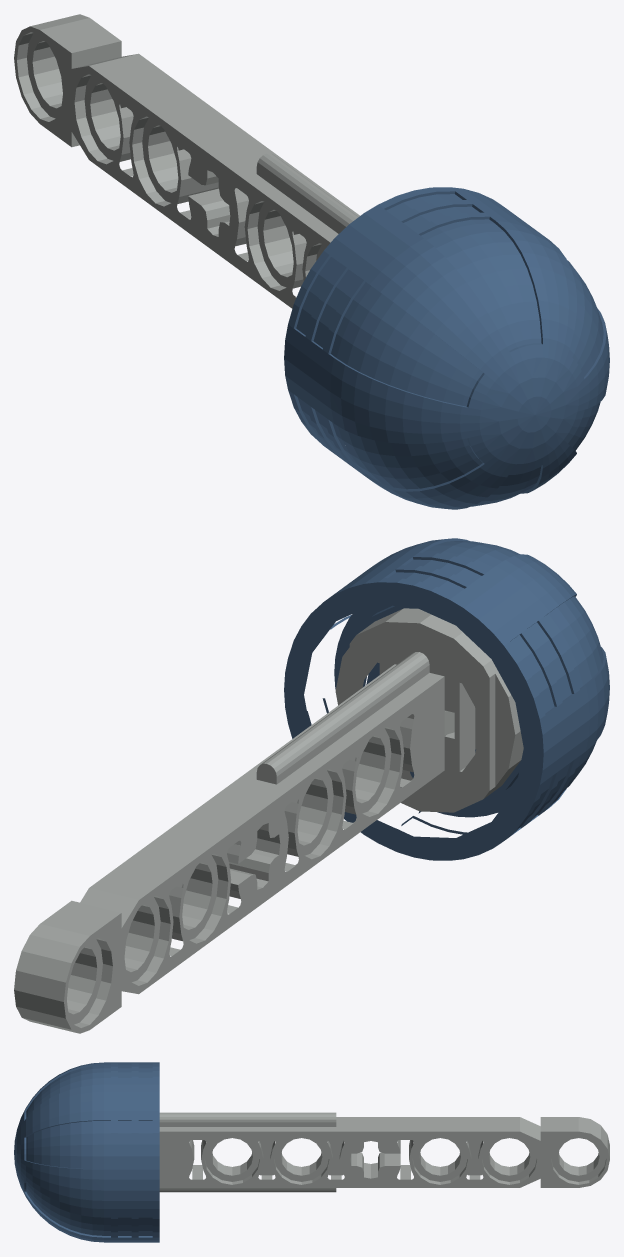
3 views of the same model, one above another, from view 1: azimuth 30°, elevation 25°; view 2: azimuth 150°, elevation 25°; view 3: azimuth 270°, elevation 25° (orthographic). The views are drawn at different scales.
Visible parts, largest first — view 1: world; view 2: world; view 3: world.
Boxes of the visible parts, bbox=[...] form: world: bbox=[14, 14, 609, 509]; world: bbox=[14, 538, 609, 1033]; world: bbox=[14, 1062, 609, 1242].
Size of the model in its own units: 0.0208 by 0.0208 by 0.0688.
